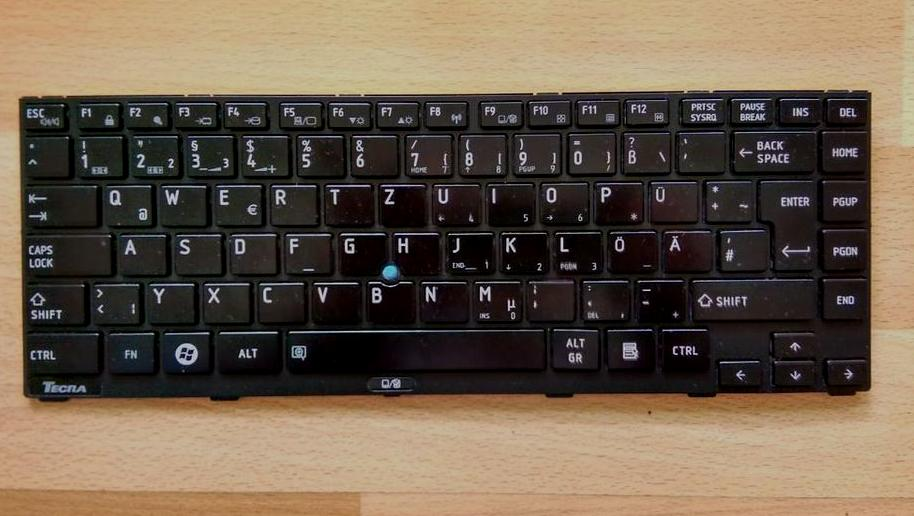0: (563, 128, 615, 174)
1: (71, 133, 122, 177)
2: (126, 132, 179, 176)
3: (180, 131, 233, 175)
4: (236, 131, 287, 176)
5: (292, 132, 343, 176)
6: (347, 131, 396, 176)
7: (402, 131, 452, 176)
8: (455, 131, 505, 175)
9: (509, 130, 559, 175)
a: (114, 230, 165, 274)
accent: (673, 128, 723, 172)
ae: (658, 227, 712, 271)
alt-left: (212, 326, 279, 372)
altgr-right: (547, 324, 599, 369)
b: (362, 277, 412, 323)
c: (254, 279, 304, 322)
caret: (20, 133, 66, 177)
comma: (523, 277, 572, 321)
d: (224, 230, 275, 274)
del: (728, 127, 816, 173)
e: (210, 181, 262, 226)
enter: (756, 174, 816, 270)
f: (280, 229, 329, 273)
g: (335, 229, 383, 274)
h: (389, 229, 438, 273)
hash: (715, 226, 765, 270)
i: (483, 179, 533, 224)
j: (442, 229, 492, 274)
k: (497, 228, 546, 273)
keyboard: (8, 83, 875, 403)
l: (550, 228, 600, 274)
less: (87, 279, 139, 323)
m: (470, 277, 520, 323)
minus: (632, 276, 682, 321)
n: (416, 277, 466, 322)
o: (535, 179, 586, 224)
oe: (604, 228, 655, 272)
p: (589, 178, 641, 223)
plus: (701, 177, 752, 221)
point: (578, 276, 629, 321)
q: (99, 181, 152, 226)
r: (266, 181, 316, 225)
s: (169, 230, 221, 274)
shift-left: (20, 281, 83, 326)
shift-lock: (20, 230, 109, 275)
shift-right: (684, 274, 814, 320)
space: (282, 326, 543, 371)
ss: (619, 128, 669, 173)
strg-left: (21, 328, 96, 373)
strg-right: (657, 324, 708, 370)
t: (321, 180, 372, 225)
tab: (20, 181, 94, 226)
u: (428, 180, 479, 225)
ue: (644, 177, 697, 222)
v: (308, 278, 359, 322)
w: (155, 180, 205, 226)
x: (197, 279, 249, 322)
y: (143, 279, 194, 323)
z: (376, 181, 425, 226)
